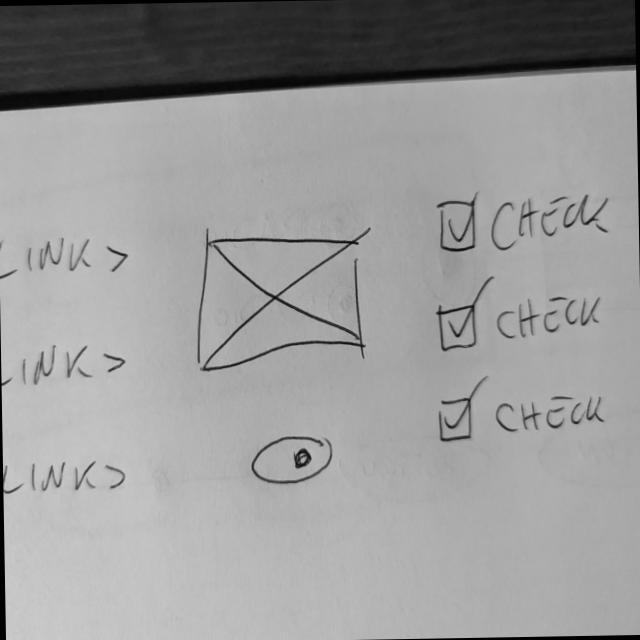checkbox: (435, 187, 616, 257), (436, 288, 608, 357), (435, 390, 609, 447)
image: (191, 227, 367, 379)
link: (2, 339, 130, 399), (1, 231, 130, 287), (3, 457, 130, 504)
toggle: (249, 429, 338, 488)
